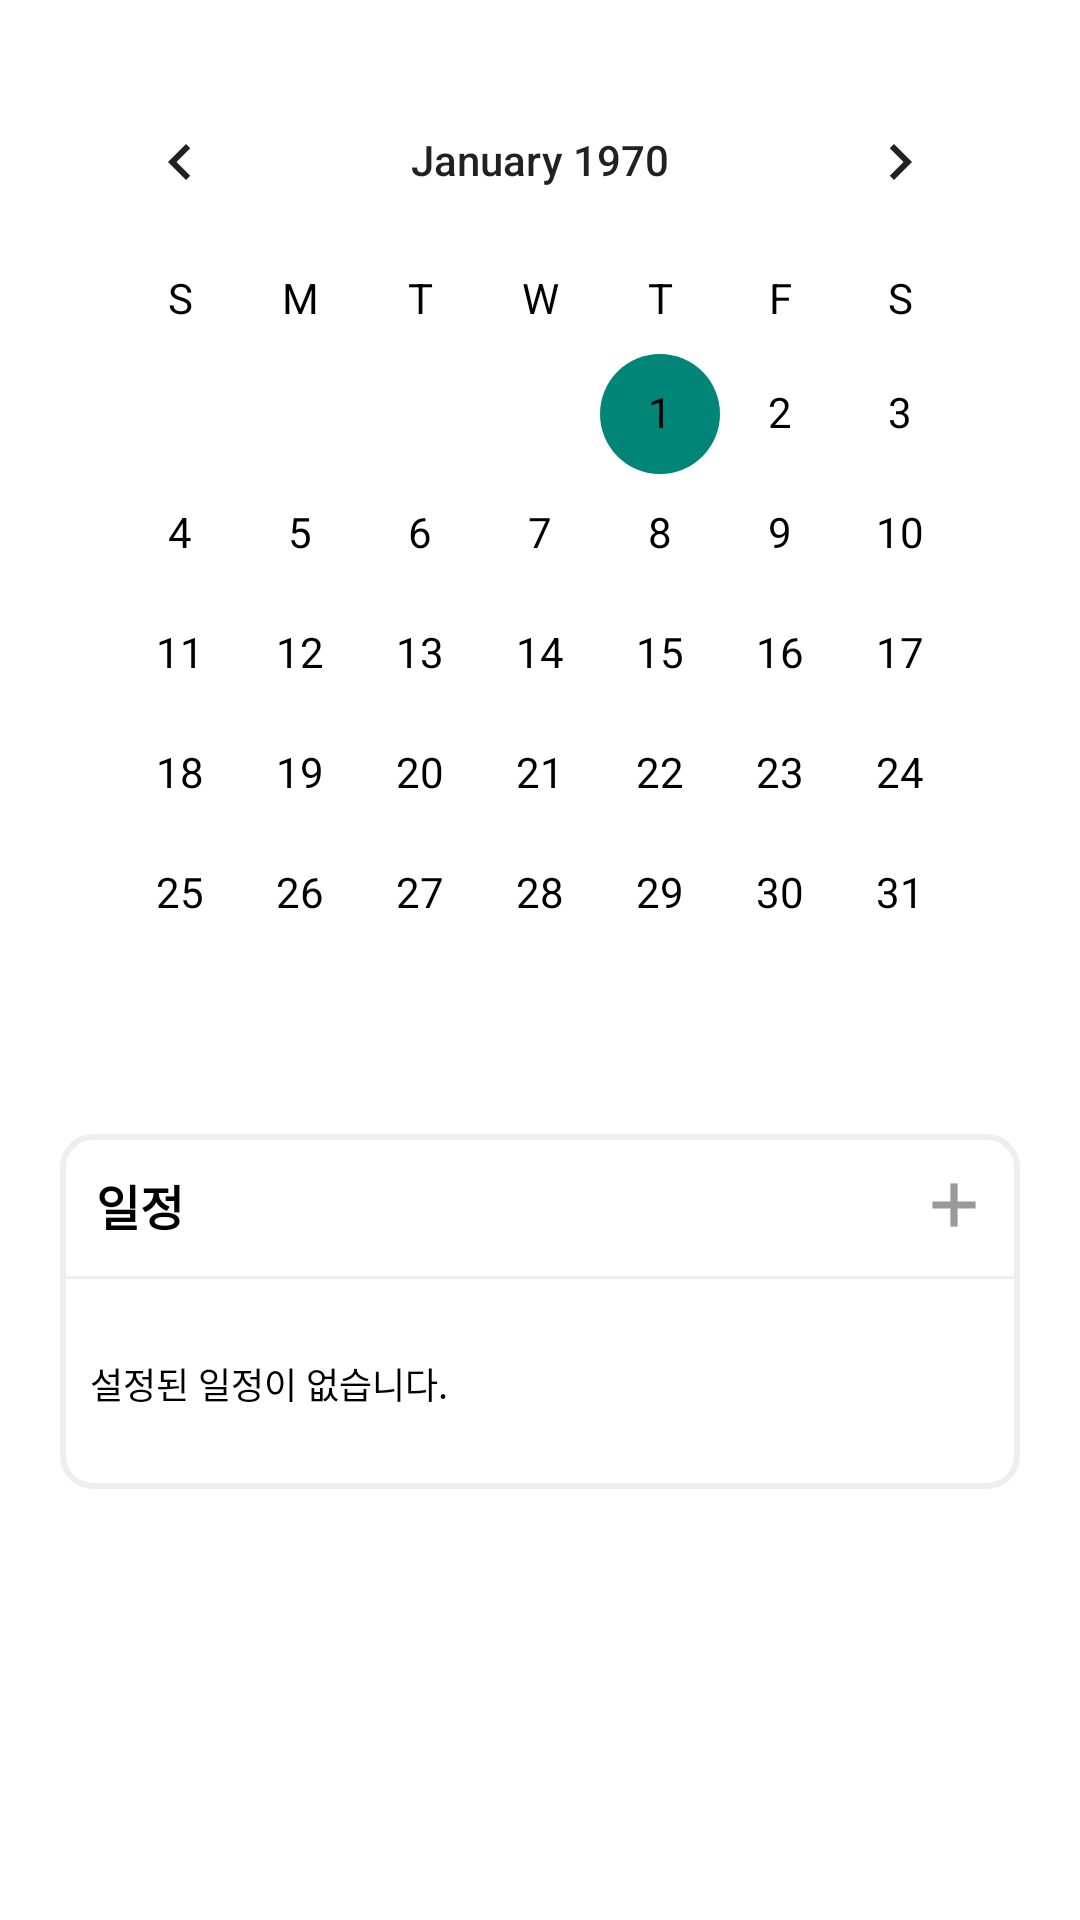

Named icons in this screenshot (1080 x 1920) and their bounding boxes, (x1, y1, x2, y2):
plusicon: (932, 1183, 976, 1227)
